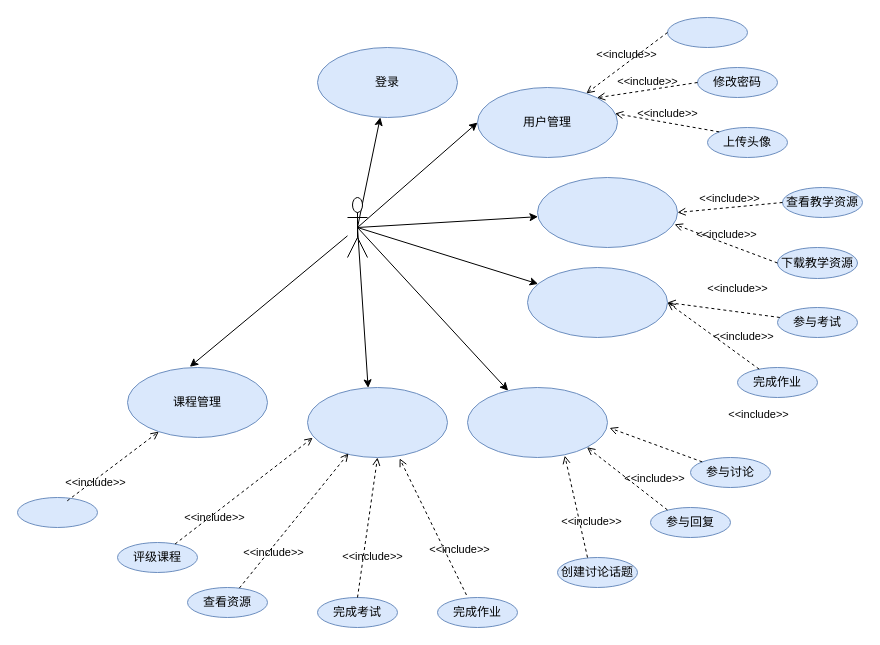
Image size: 880x645. Some labels were removed from this diagram. The centre of each missing label's shape, as x and y in pixels:
"个人信息编辑" goes at pixel 707 32.
"交流互动" goes at pixel 537 422.
"作业考试管理" goes at pixel 597 302.
"加入课程" goes at pixel 57 512.
"学习行为记录管理" goes at pixel 377 422.
"学生" goes at pixel 357 227.
"教学资源管理" goes at pixel 607 212.
